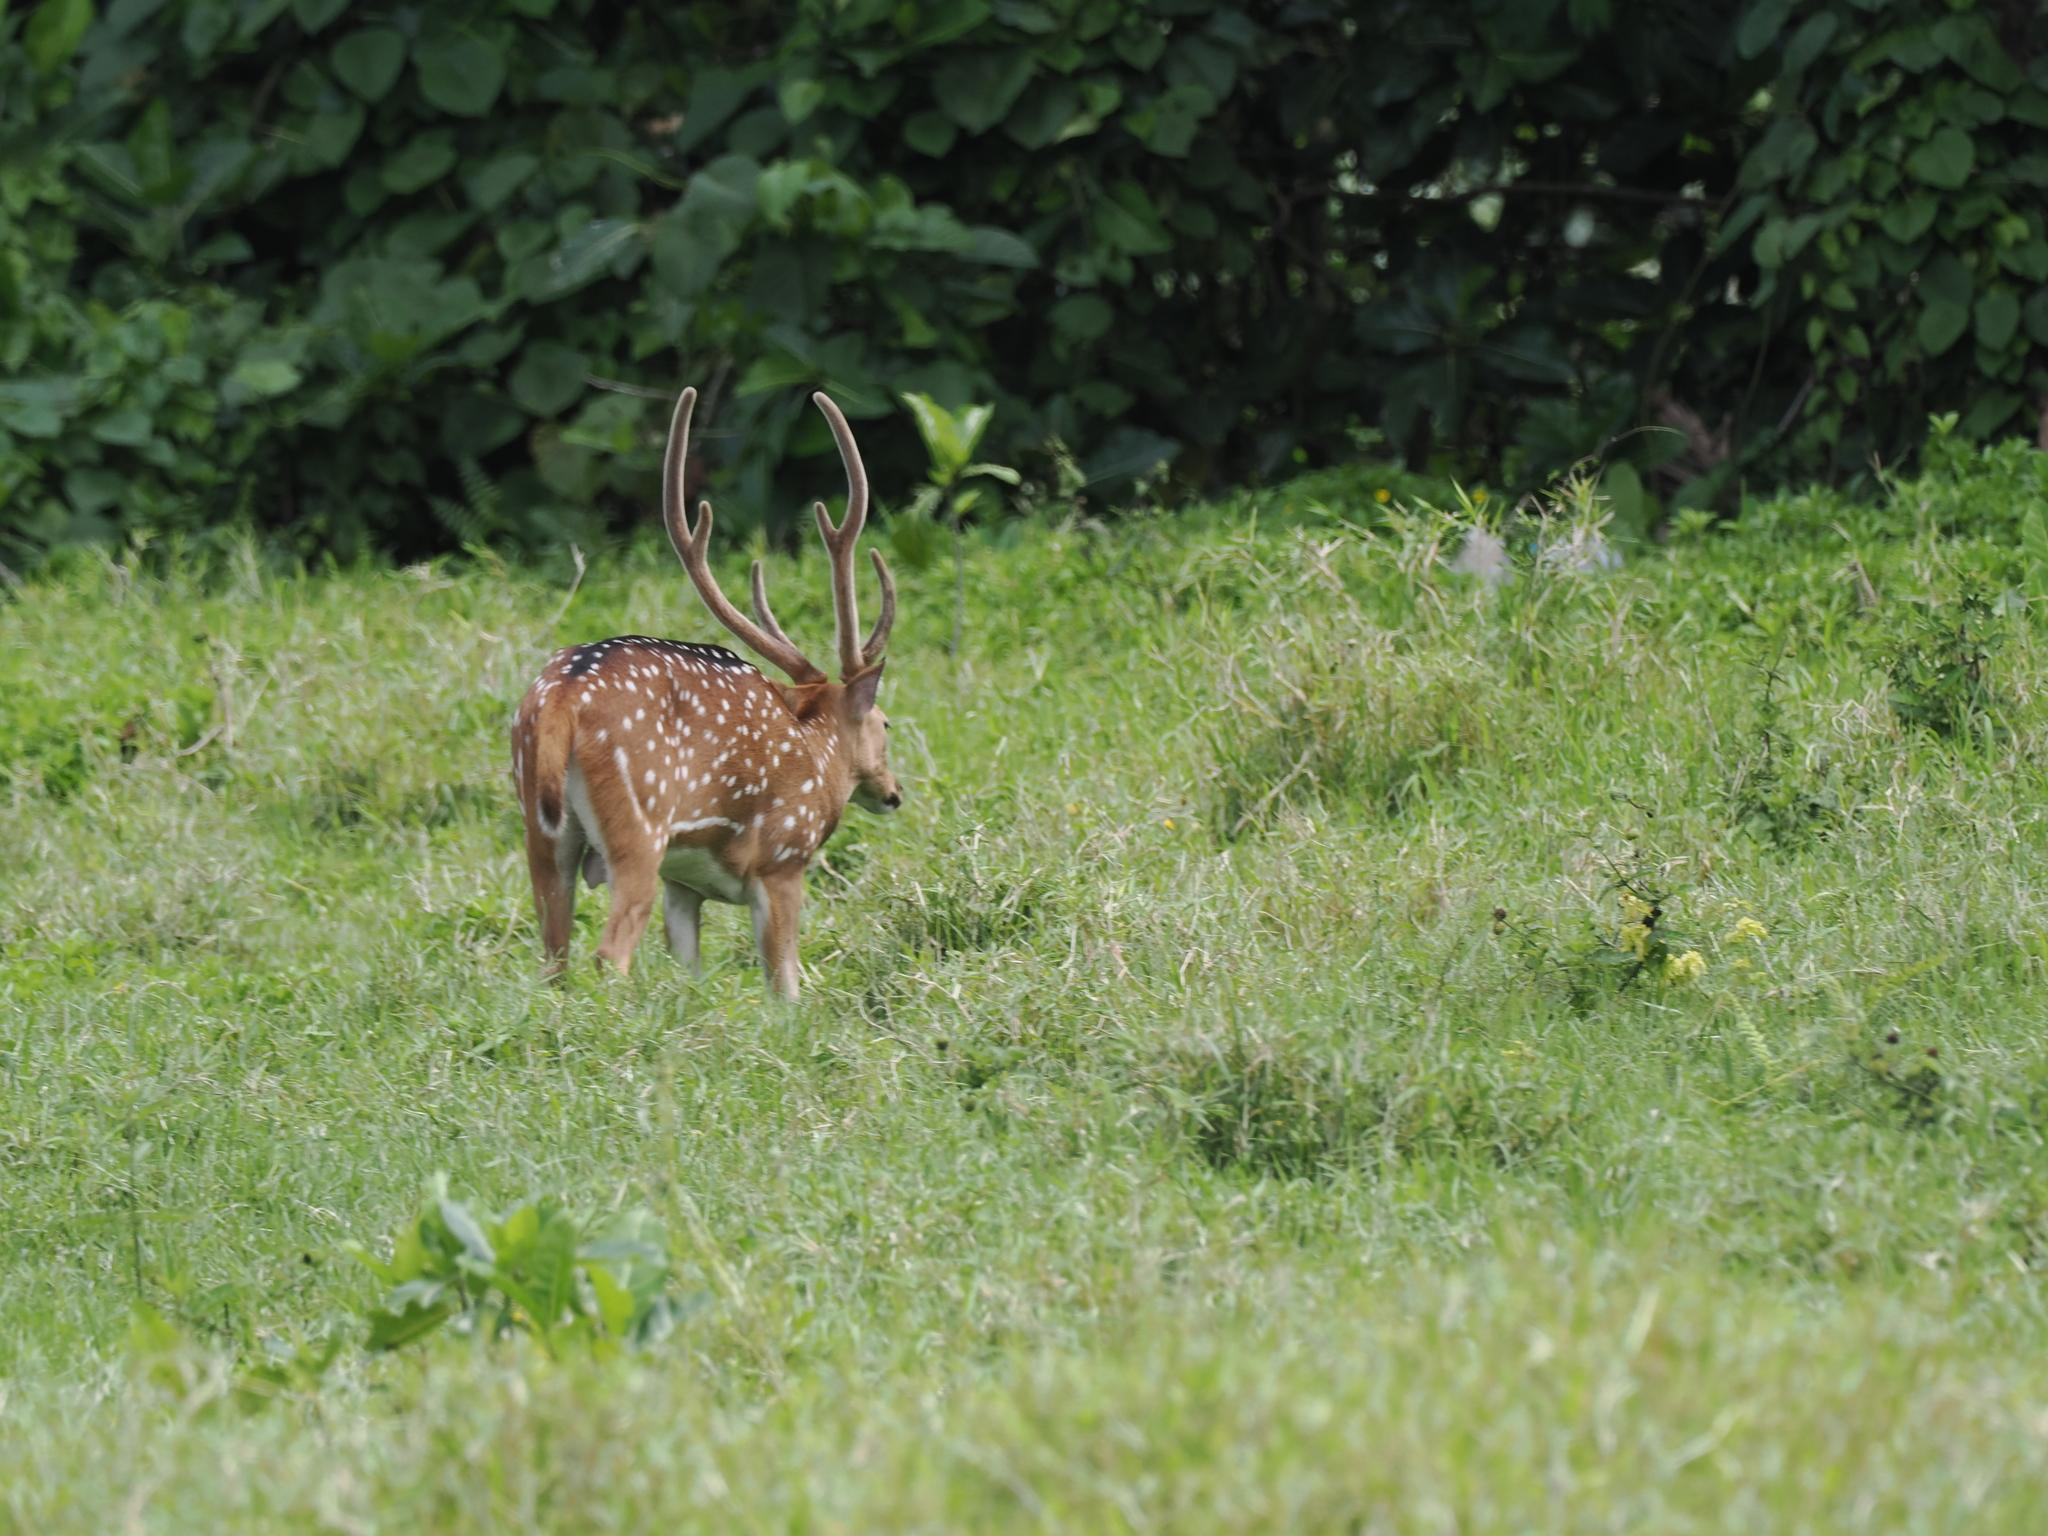Deer: (511, 388, 900, 1000)
